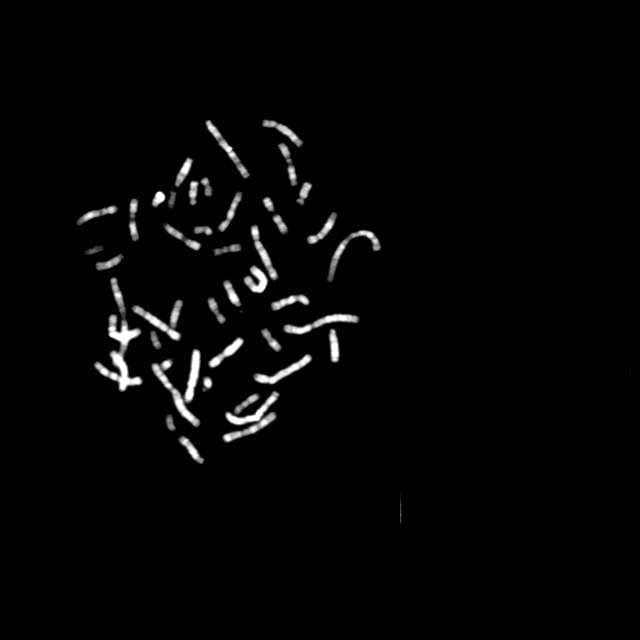chromosome: (152, 362, 200, 428), (328, 231, 382, 281), (206, 120, 250, 178), (132, 304, 182, 342), (254, 354, 312, 384), (226, 392, 280, 424), (286, 314, 358, 336), (223, 412, 275, 442), (252, 227, 278, 280), (164, 223, 202, 251), (263, 120, 303, 146), (95, 362, 142, 384), (210, 338, 244, 368), (218, 192, 244, 230), (278, 142, 300, 185), (110, 352, 134, 391), (308, 213, 338, 243), (108, 314, 142, 340), (184, 350, 200, 404), (113, 319, 129, 366), (77, 206, 117, 224), (244, 266, 268, 294), (179, 436, 203, 464), (109, 278, 127, 314), (272, 295, 310, 311), (234, 392, 258, 414), (127, 199, 139, 241), (208, 296, 226, 324), (175, 158, 192, 186), (223, 280, 240, 306), (262, 328, 280, 352), (95, 256, 125, 270), (168, 299, 182, 327), (296, 182, 312, 204), (330, 328, 340, 362), (213, 244, 241, 256), (148, 330, 162, 350), (273, 215, 289, 232), (188, 182, 200, 204), (200, 178, 213, 196), (85, 244, 103, 256), (151, 192, 165, 206), (161, 358, 173, 374), (194, 225, 212, 235), (201, 378, 213, 392), (165, 414, 175, 430), (264, 198, 274, 212), (168, 192, 176, 208)
